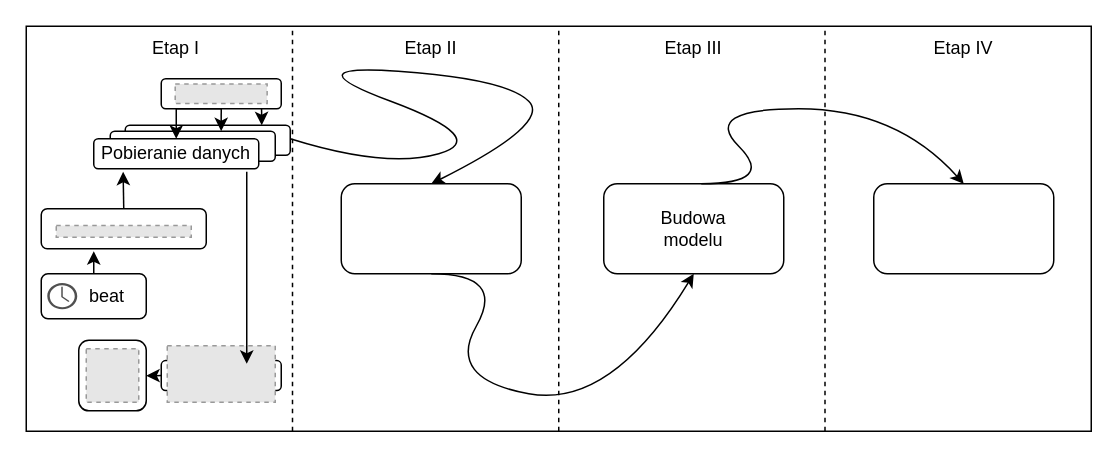
The diagram is 1118 pixels wide and 459 high, and some of its shapes have lost their labels. Grey dashed boxes stand in for pictures. Here are the shapes that lost their labels. From the top down, the centre of each, then its label:
At (x=430, y=228): "Preprocessing danych".
At (x=963, y=228): "Działająca aplikacja".
